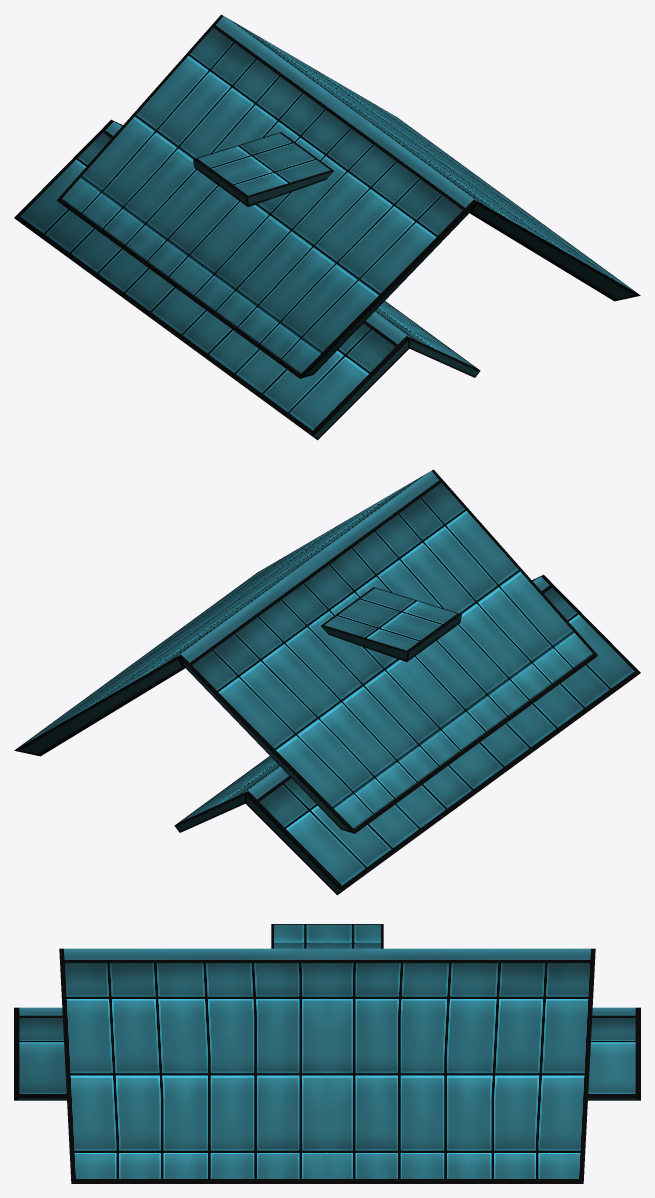
Rendered from house_07.FBX.
The picture shows the model from 3 angles, top to bottom: view 1: azimuth 30°, elevation 25°; view 2: azimuth 150°, elevation 25°; view 3: azimuth 270°, elevation 25°; orthographic projection. The views are drawn at different scales.
Visible parts, largest first — view 1: house_07; view 2: house_07; view 3: house_07.
Part boxes in pixels (x1=…): house_07: x1=14, y1=14, x2=640, y2=440; house_07: x1=14, y1=469, x2=640, y2=895; house_07: x1=14, y1=924, x2=640, y2=1183.
Bounding box in the file's own units: 996 × 480 × 1444.
